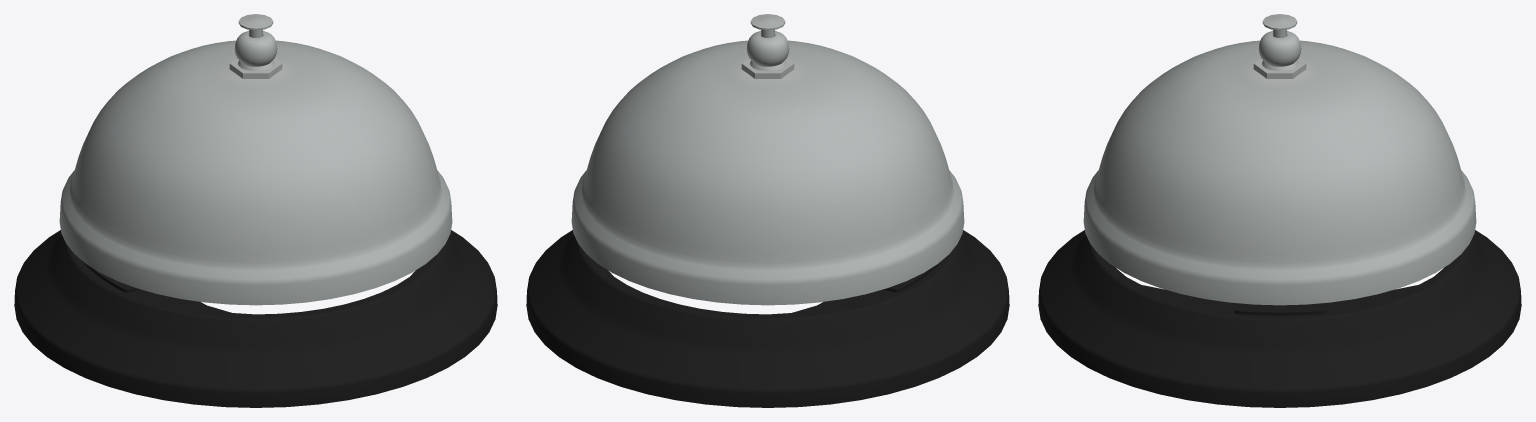
The picture shows the model from 3 angles, left to right: view 1: azimuth 30°, elevation 25°; view 2: azimuth 150°, elevation 25°; view 3: azimuth 270°, elevation 25°; orthographic projection.
Visible parts, largest first — view 1: Dome, Base, Screw, Button; view 2: Dome, Base, Screw, Button; view 3: Dome, Base, Screw, Connectors, Button.
Boxes of the visible parts, bbox=[...] form: Dome: bbox=[59, 40, 452, 305]; Base: bbox=[14, 230, 497, 407]; Screw: bbox=[229, 31, 282, 78]; Button: bbox=[238, 14, 273, 37]; Dome: bbox=[571, 40, 964, 305]; Base: bbox=[526, 230, 1009, 407]; Screw: bbox=[741, 31, 794, 78]; Button: bbox=[750, 14, 785, 37]; Dome: bbox=[1083, 40, 1476, 305]; Base: bbox=[1038, 230, 1521, 407]; Screw: bbox=[1253, 31, 1306, 78]; Connectors: bbox=[1234, 303, 1325, 315]; Button: bbox=[1262, 14, 1297, 37].
Size of the model in its own units: 85.85 by 56.23 by 85.85.
Materials: 2 (2 with a texture image).
